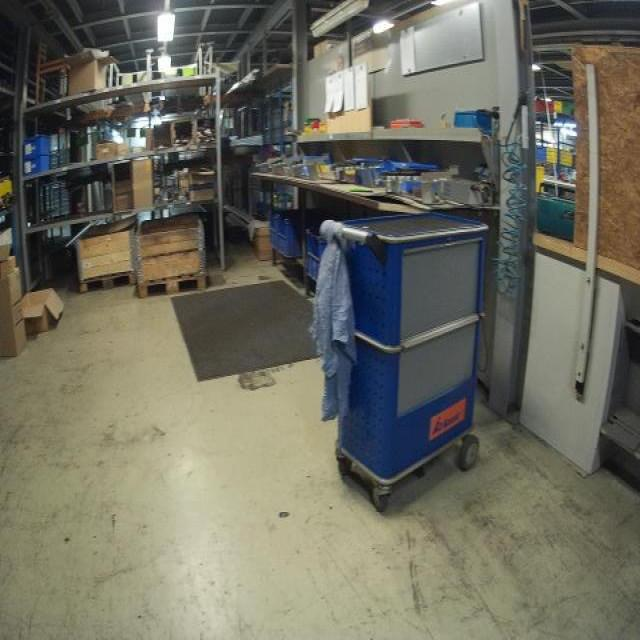pallet: (137, 269, 208, 300), (79, 269, 136, 297)
small_load_carrier: (306, 224, 327, 293), (279, 214, 302, 254), (16, 155, 51, 175), (23, 135, 49, 154), (264, 216, 282, 241)
